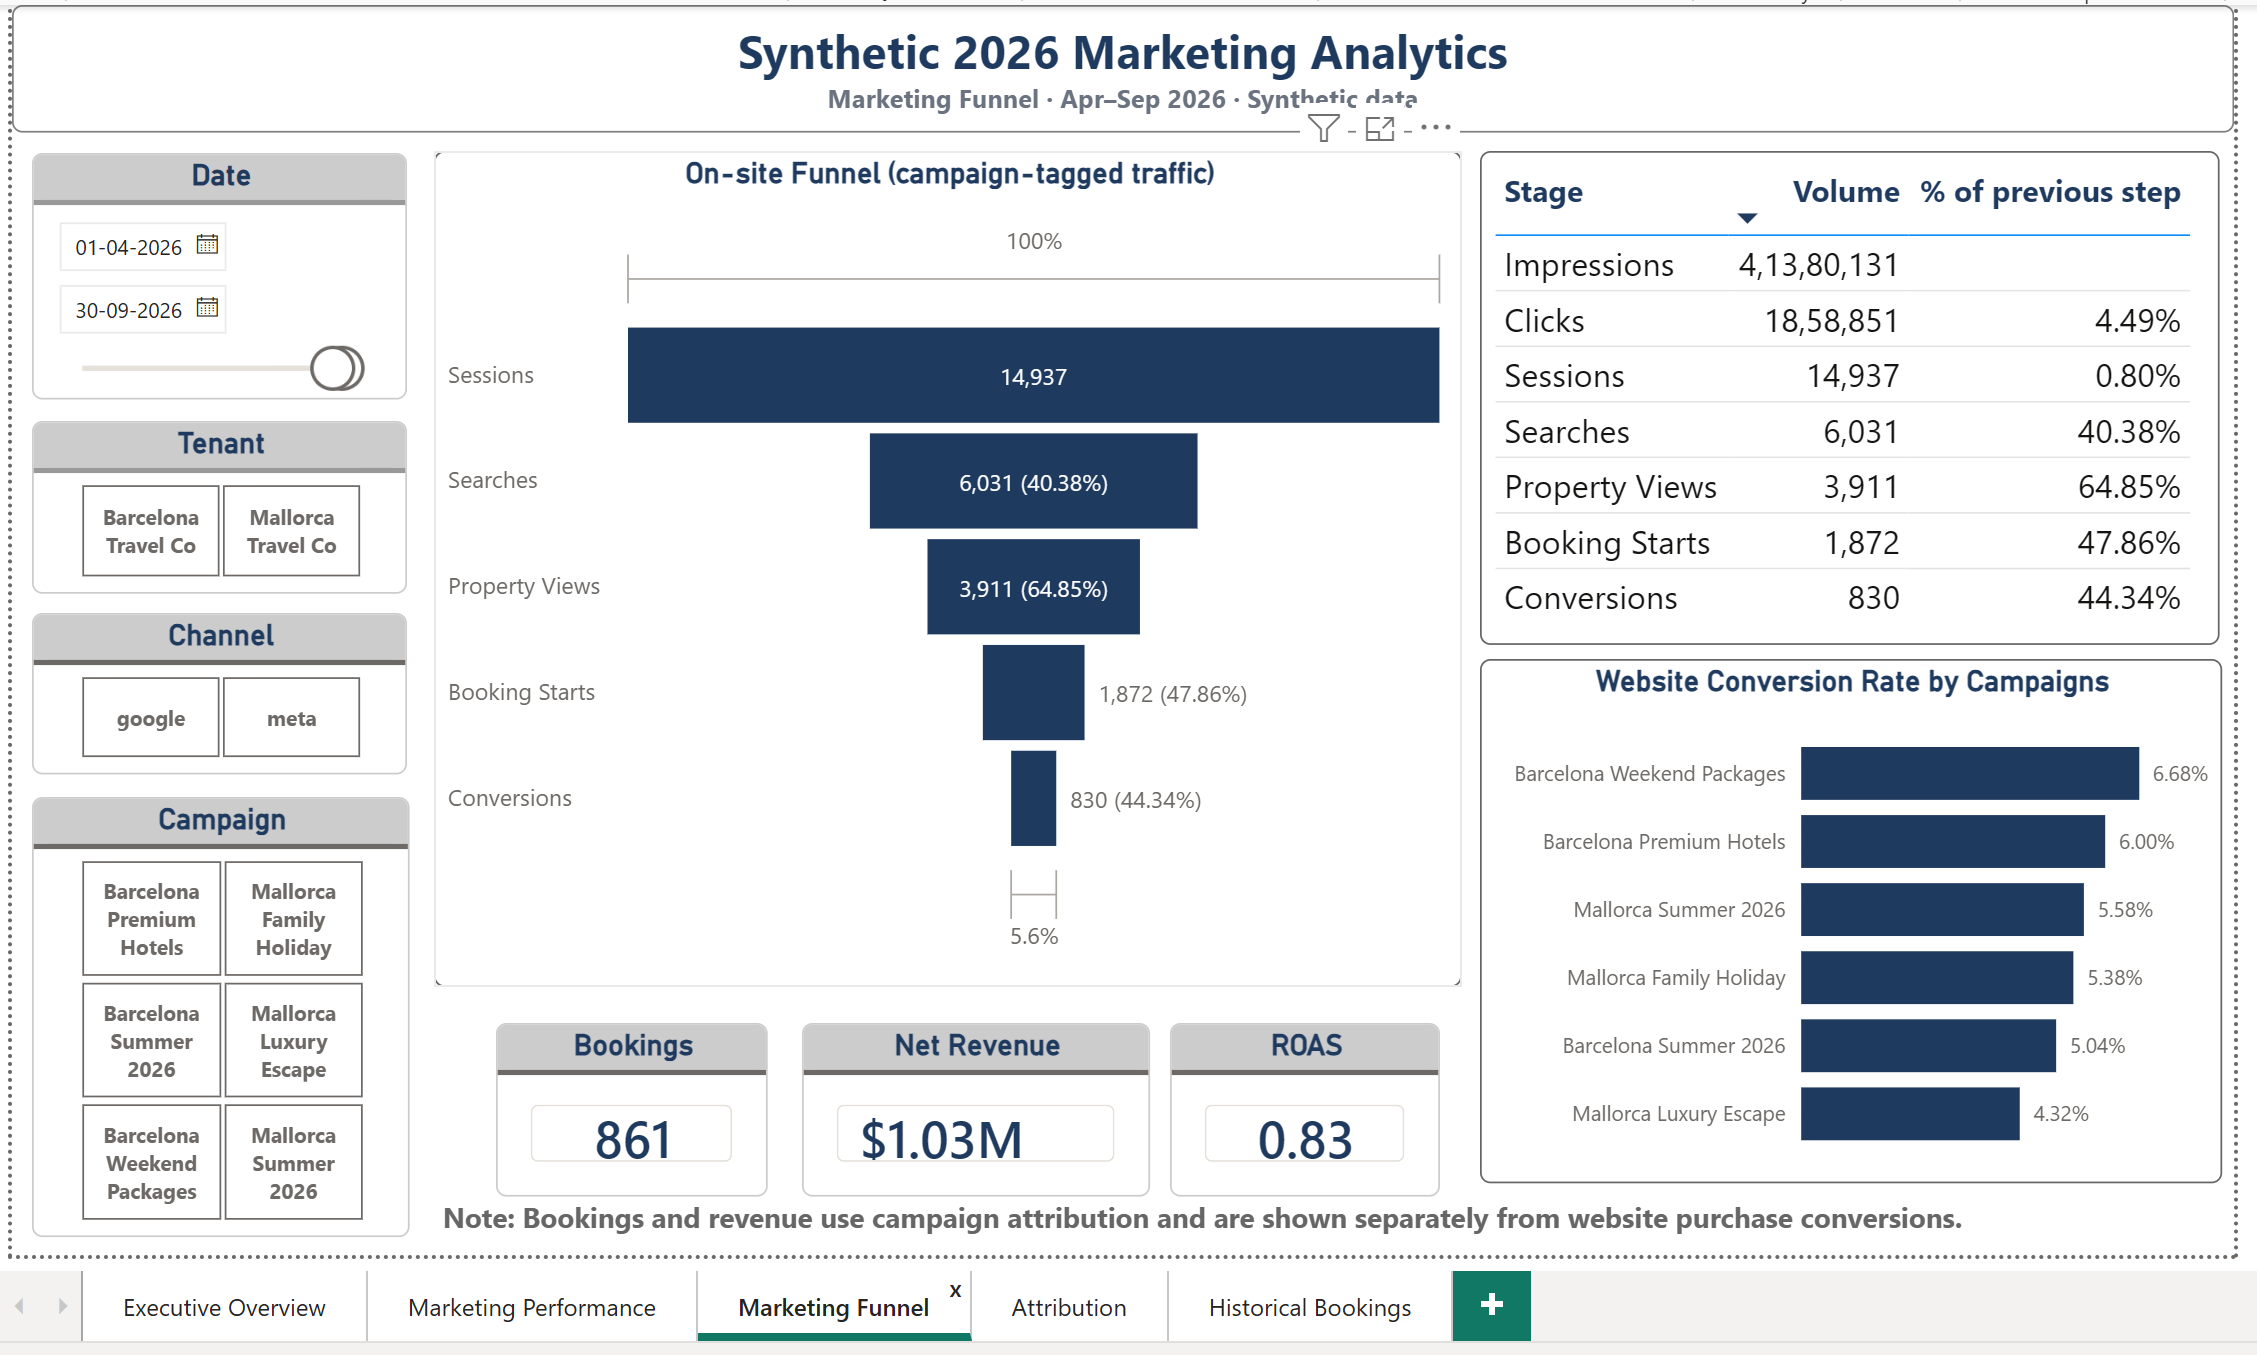

The page's visual inventory and layout, read from the dashboard file:
{"tool":"powerbi","page":{"name":"Marketing Funnel","canvas":[1280,720],"ordinal":2},"visuals":[{"type":"slicer","title":"Date","fields":{"Values":["dim_date.date_day"]},"box":[11.9,84.9,216.2,141.9],"z":0},{"type":"slicer","title":"Tenant","fields":{"Values":["dim_tenant.tenant_name"]},"box":[11.9,240.1,216.2,99.5],"z":1000},{"type":"slicer","title":"Campaign","fields":{"Values":["dim_campaign.campaign_name"]},"box":[11.9,456.3,217.5,253.3],"z":2000},{"type":"slicer","title":"Channel","fields":{"Values":["dim_campaign.channel"]},"box":[11.9,350.2,216.2,92.8],"z":3000},{"type":"textbox","box":[0,0,1279.9,73.7],"z":4000},{"type":"funnel","title":"On-site Funnel (campaign-tagged traffic)","fields":{"Category":["Funnel Stages.Stage"],"Y":["_Measures.Funnel Value"]},"box":[243.1,84.1,592.1,481.5],"z":5000},{"type":"tableEx","fields":{"Values":["Funnel Stages.Stage","_Measures.Funnel Value","_Measures.Step Rate"]},"box":[845.6,84.1,426.2,284.5],"z":6000},{"type":"textbox","box":[243.3,681.6,1024.6,37.8],"z":7000},{"type":"barChart","title":"Website Conversion Rate by Campaigns","fields":{"Category":["dim_campaign.campaign_name"],"Y":["_Measures.Website Conversion Rate"]},"box":[845.6,376.7,427.4,301.8],"z":8000},{"type":"cardVisual","title":"Net Revenue","fields":{"Data":["_Measures.Net Revenue"]},"box":[455,586.4,200.4,100.2],"z":9000},{"type":"cardVisual","title":"Bookings","fields":{"Data":["_Measures.Bookings"]},"box":[278.8,586.4,156.7,100.2],"z":10000},{"type":"cardVisual","title":"ROAS","fields":{"Data":["_Measures.ROAS"]},"box":[667,586.4,155.5,100.2],"z":11000}]}

Visuals, with their boxes on the page's 1280x720 design canvas (x1, y1, x2, y2). These are canvas units, not pixel positions in the 2257x1355 screenshot, which may show the page scaled, cropped or inside an application window:
"Date" slicer: l=12, t=85, r=228, b=227
"Tenant" slicer: l=12, t=240, r=228, b=340
"Campaign" slicer: l=12, t=456, r=229, b=710
"Channel" slicer: l=12, t=350, r=228, b=443
textbox: l=0, t=0, r=1280, b=74
"On-site Funnel (campaign-tagged traffic)" funnel: l=243, t=84, r=835, b=566
tableEx - Funnel Stages.Stage x _Measures.Funnel Value: l=846, t=84, r=1272, b=369
textbox: l=243, t=682, r=1268, b=719
"Website Conversion Rate by Campaigns" barChart: l=846, t=377, r=1273, b=678
"Net Revenue" cardVisual: l=455, t=586, r=655, b=687
"Bookings" cardVisual: l=279, t=586, r=436, b=687
"ROAS" cardVisual: l=667, t=586, r=822, b=687
